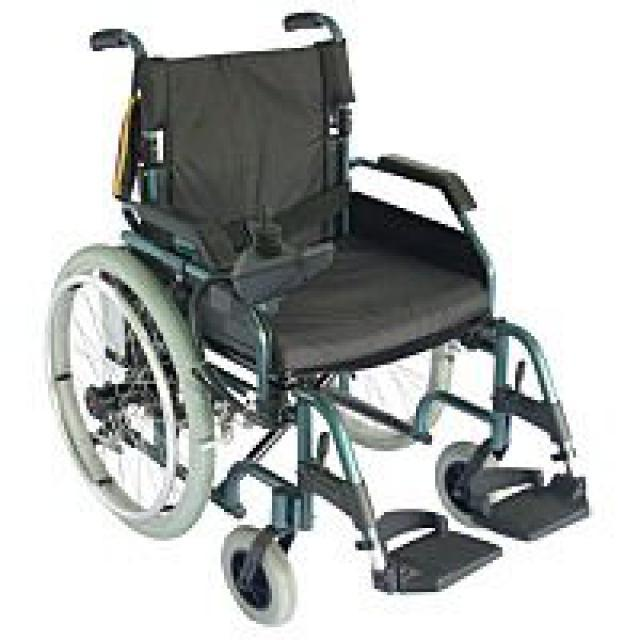wheelchair: (16, 10, 589, 628)
